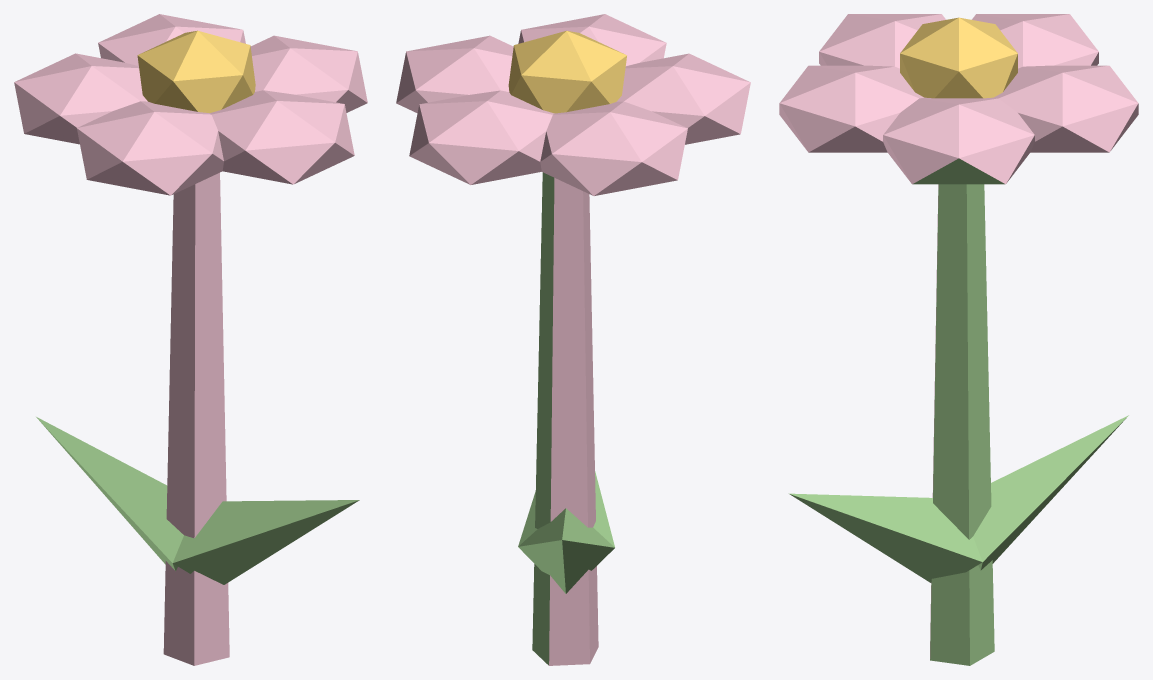
Rendered from FlowerPink.fbx.
3 renders of one model, left to right at view 1: azimuth 30°, elevation 25°; view 2: azimuth 150°, elevation 25°; view 3: azimuth 270°, elevation 25°, orthographic. The views are drawn at different scales.
Parts seen in each view (by area): view 1: FlowerPink; view 2: FlowerPink; view 3: FlowerPink.
Part boxes in pixels (x1=…): FlowerPink: x1=14, y1=14, x2=367, y2=665; FlowerPink: x1=396, y1=14, x2=750, y2=665; FlowerPink: x1=779, y1=14, x2=1138, y2=665.
Size of the model in its own units: 0.18 by 0.353 by 0.1812.
